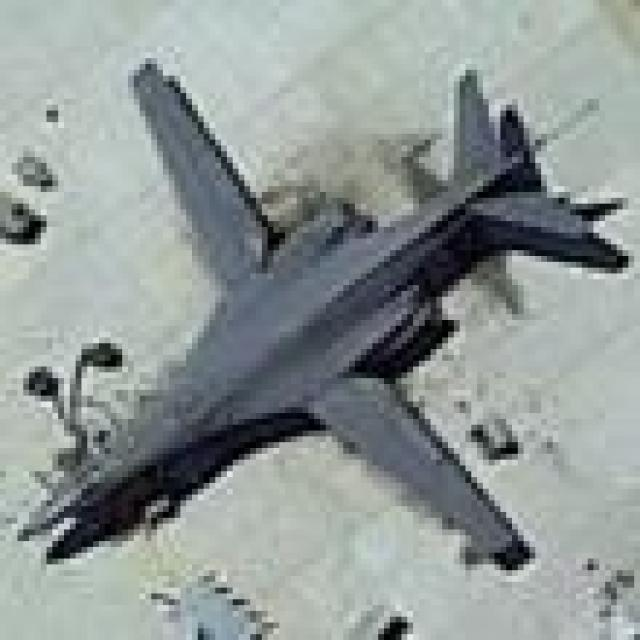B-1_TopDown: (6, 52, 628, 576)
